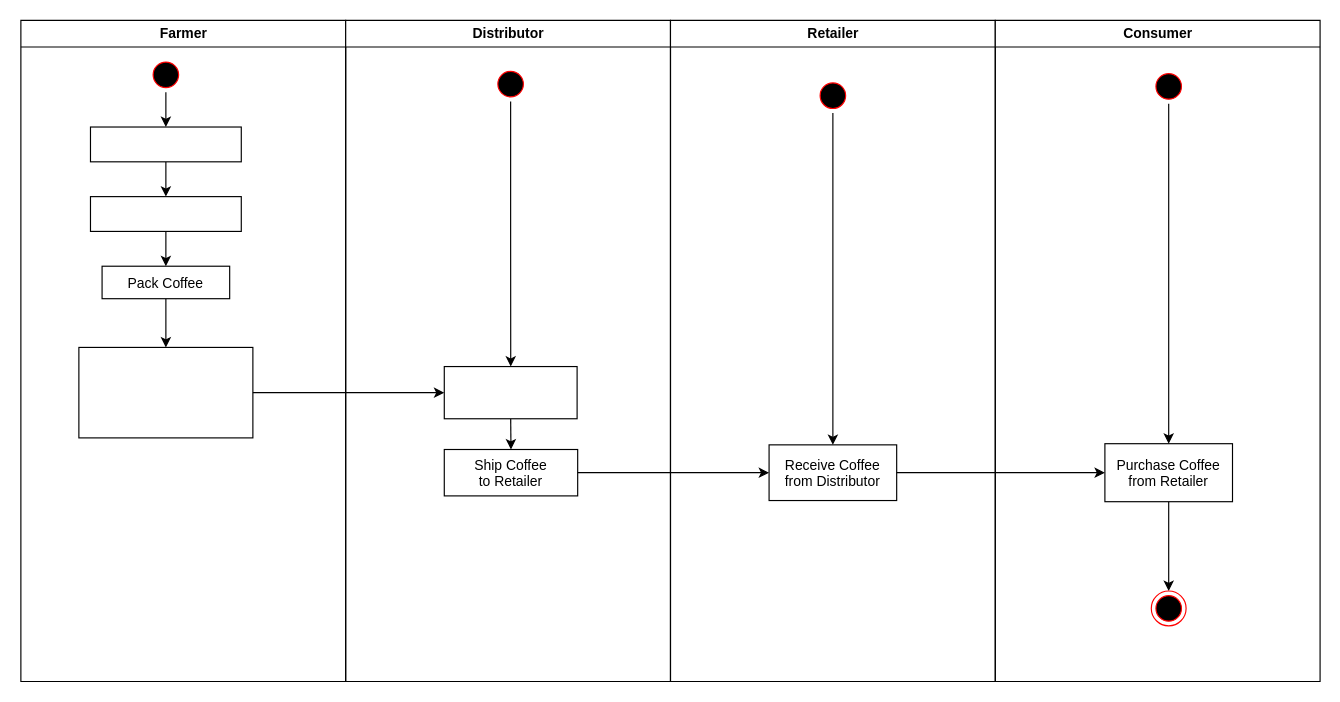
The diagram is 1340 pixels wide and 702 high, and some of its shapes have lost their labels. The centre of each missing label's shape, as x and y in pixels:
Buy Coffee from Farmer: point 510,392
Harvest Coffee: point 165,144
Mark Coffee as For Sale to Distributor: point 165,392
Process Coffee: point 165,213
